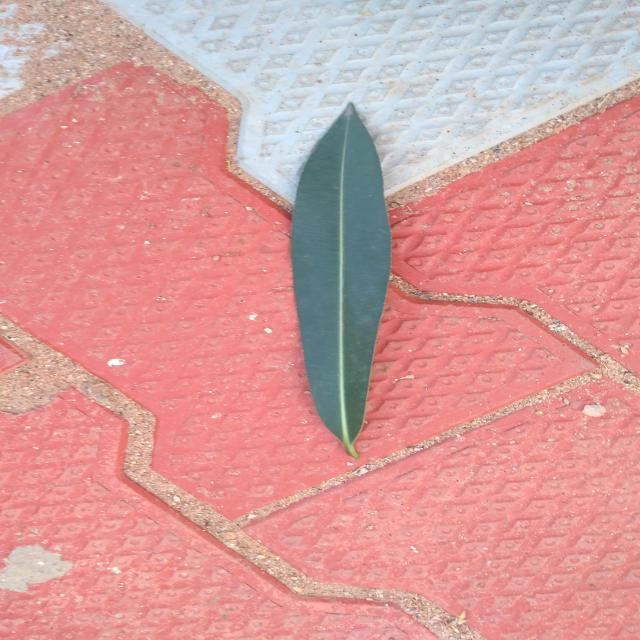ganigale: (291, 104, 391, 459)
